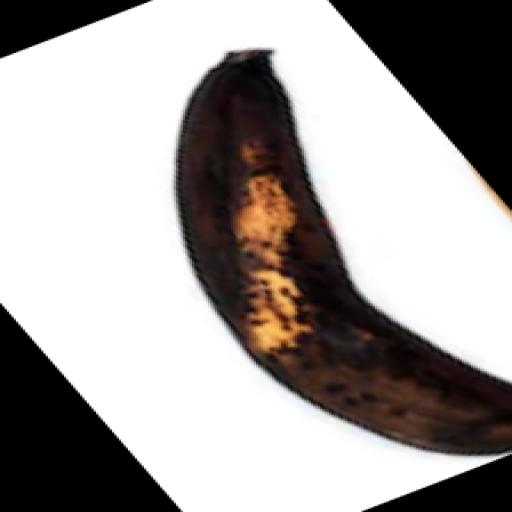banana-overripe: (97, 19, 512, 477)
